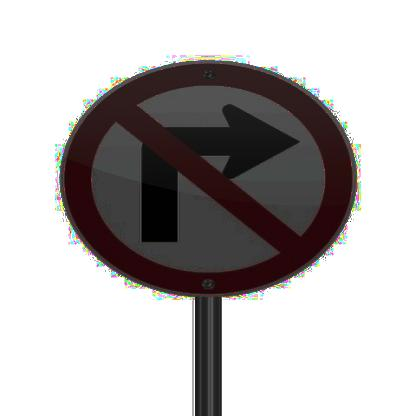No right turn: (54, 56, 359, 295)
